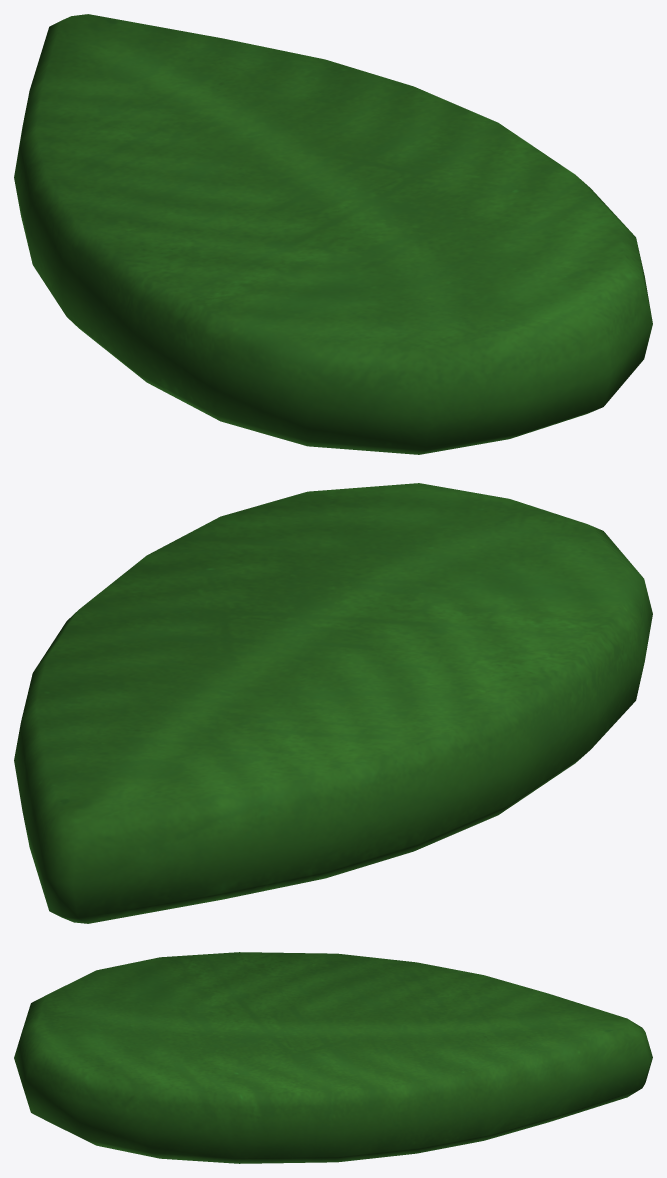
Rendered from CHP_MOD_Chewie_green.fbx.
3 views of the same model, one above another, from view 1: azimuth 30°, elevation 25°; view 2: azimuth 150°, elevation 25°; view 3: azimuth 270°, elevation 25° (orthographic). The views are drawn at different scales.
Parts seen in each view (by area): view 1: CHP_MOD_Chewie_green; view 2: CHP_MOD_Chewie_green; view 3: CHP_MOD_Chewie_green.
Boxes of the visible parts, x1=… form: CHP_MOD_Chewie_green: x1=14, y1=14, x2=652, y2=454; CHP_MOD_Chewie_green: x1=14, y1=483, x2=652, y2=923; CHP_MOD_Chewie_green: x1=14, y1=952, x2=652, y2=1163.
Size of the model in its own units: 0.4445 by 0.0944 by 0.782.
